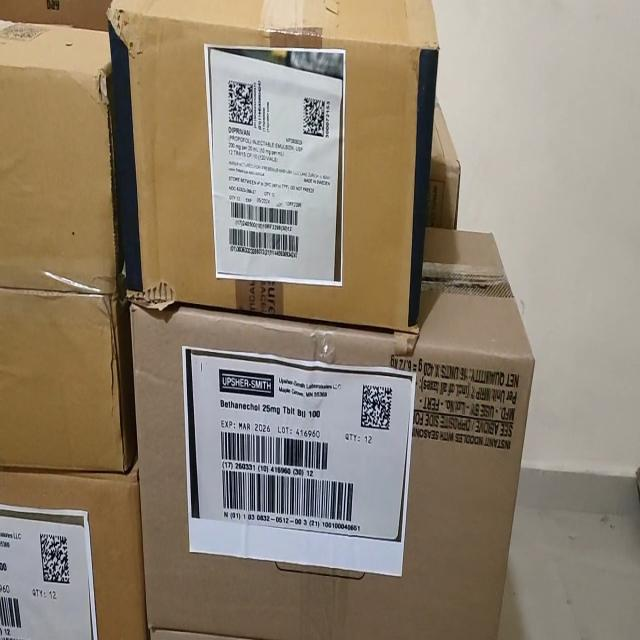BoxFace: (125, 288, 535, 637), (106, 1, 442, 332)
